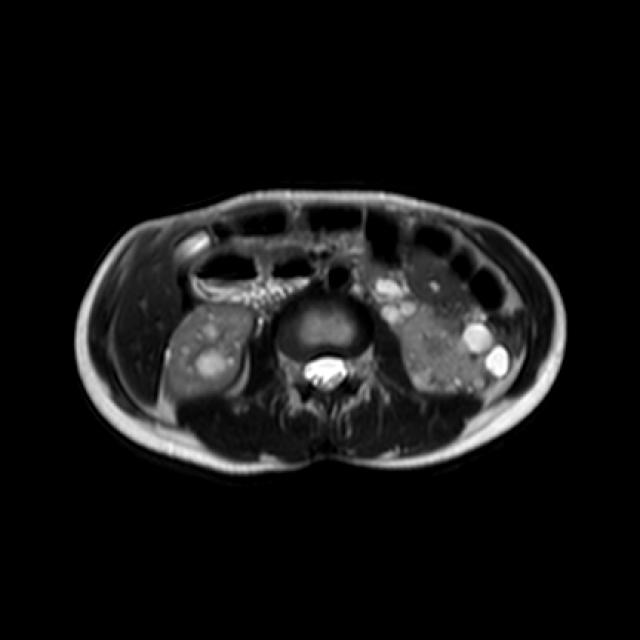sag: (163, 301, 255, 400)
sol: (383, 298, 512, 391)
